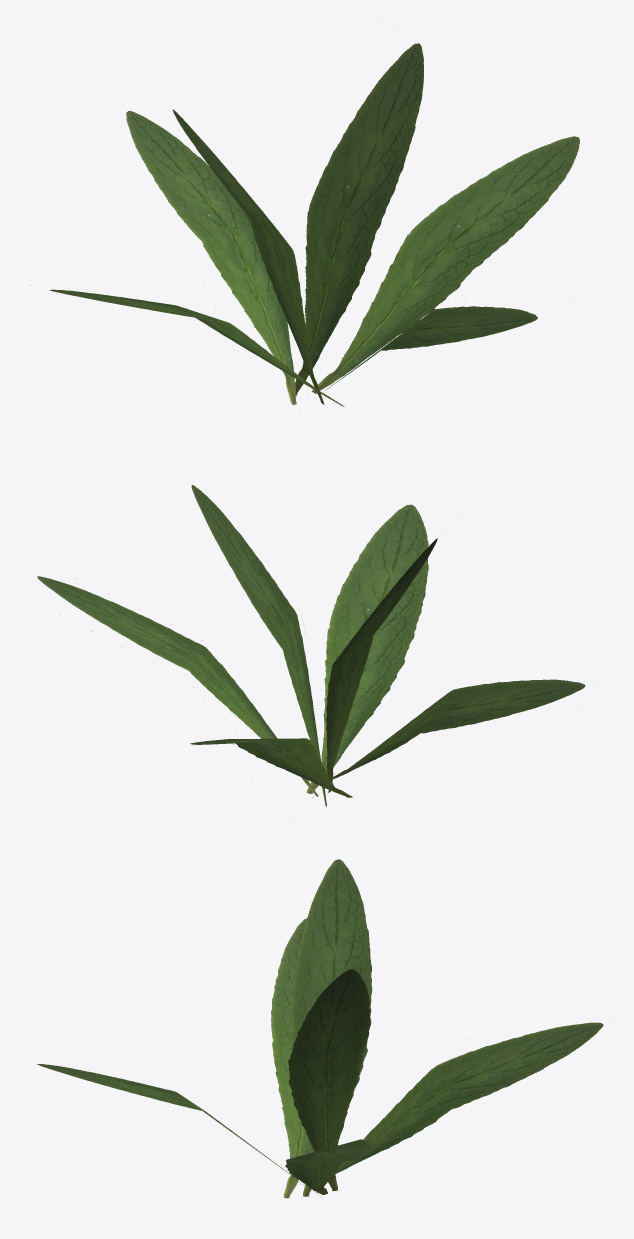
Rendered from detail plant4.FBX.
The picture shows the model from 3 angles, top to bottom: view 1: azimuth 30°, elevation 25°; view 2: azimuth 150°, elevation 25°; view 3: azimuth 270°, elevation 25°; orthographic projection. The views are drawn at different scales.
Parts seen in each view (by area): view 1: detail plant4; view 2: detail plant4; view 3: detail plant4.
Boxes of the visible parts, left/top/right/bottom form: detail plant4: left=49, top=43, right=579, bottom=406; detail plant4: left=37, top=485, right=585, bottom=806; detail plant4: left=37, top=859, right=603, bottom=1198.
Size of the model in its own units: 4.45 by 2.38 by 4.46.
